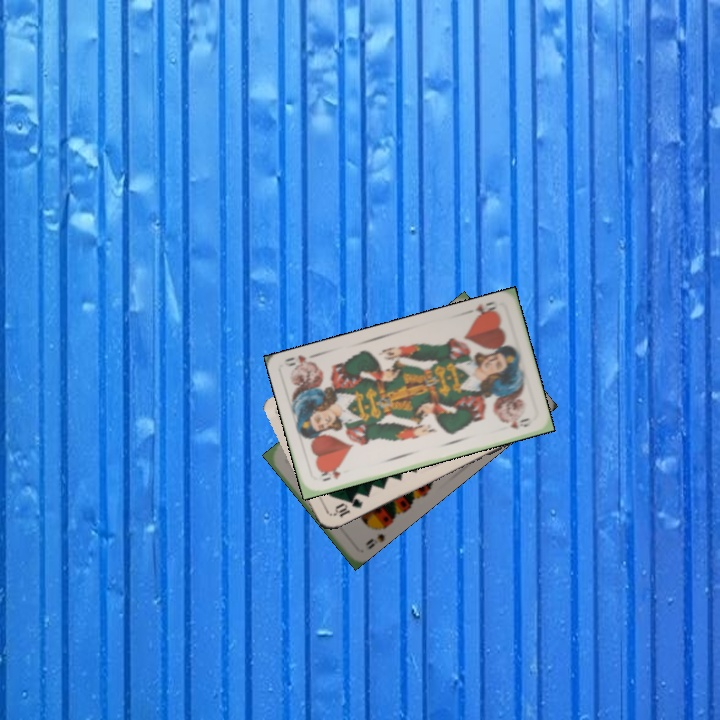G10: (330, 494, 366, 520)
HO: (463, 297, 501, 322), (317, 465, 343, 484)
S9: (361, 522, 390, 548)
